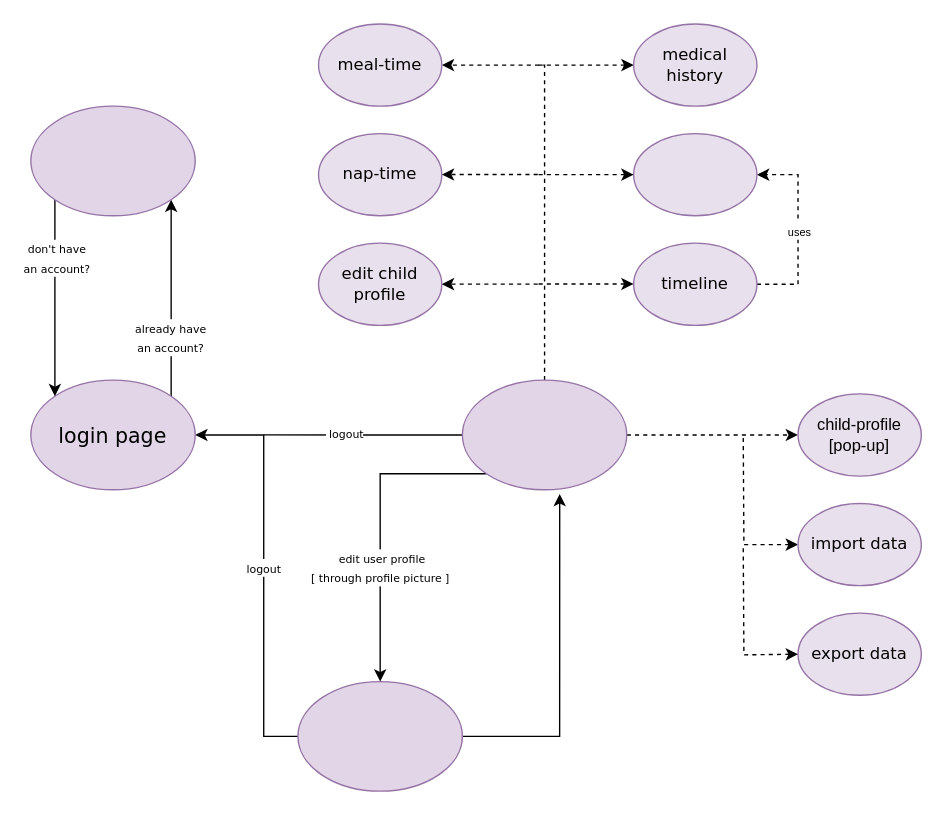
Some shapes in this 945 by 815 pixel diagram are drawn without their labels. Each missing label, with the centre of its shape:
edit page: [379,735]
gallery: [694,174]
main page: [544,434]
signup page: [112,160]
